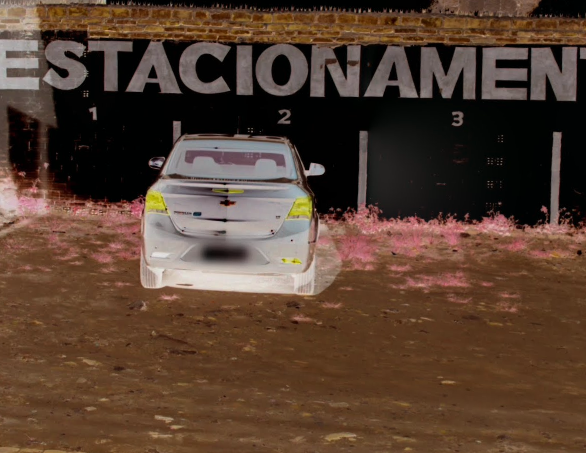car: (136, 120, 327, 299)
